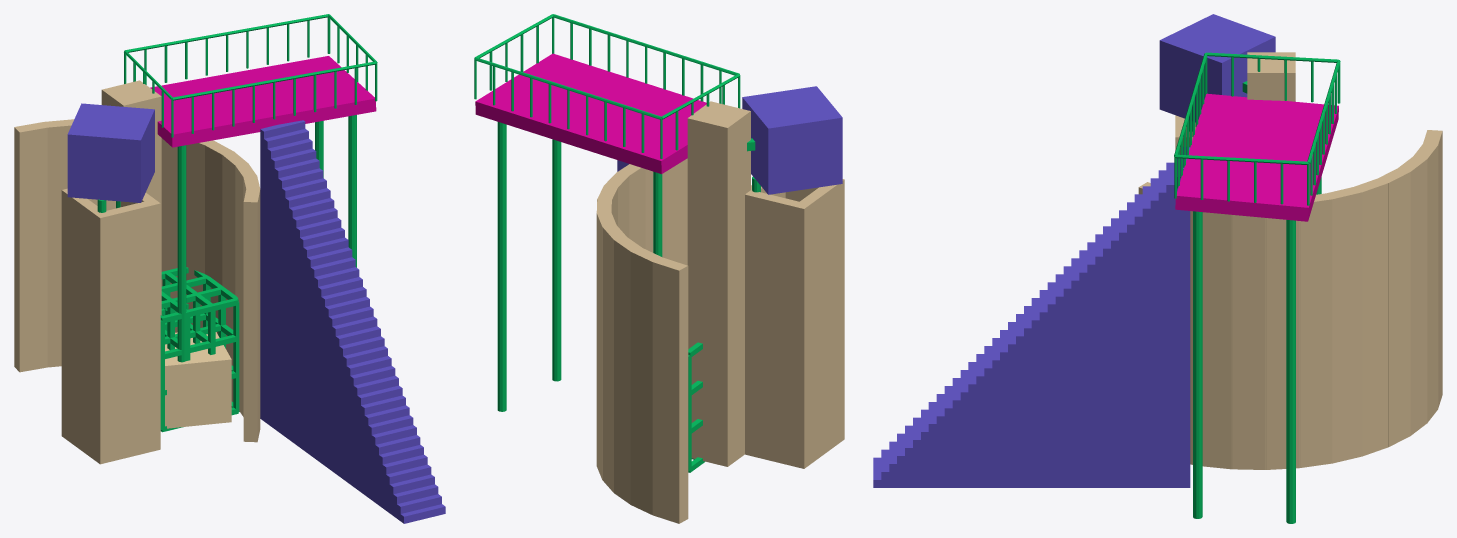
The model's file is folie_tag_048.glb.
The picture shows the model from 3 angles, left to right: view 1: azimuth 30°, elevation 25°; view 2: azimuth 150°, elevation 25°; view 3: azimuth 270°, elevation 25°; orthographic projection. The views are drawn at different scales.
Parts seen in each view (by area): view 1: folie_tag_048_stairs, folie_tag_048_00_curve, folie_tag_048_01_tower, folie_tag_048_02_plate, folie_tag_048_line, folie_tag_048_03_block, folie_tag_048_04_cage, folie_tag_048_05_block, folie_tag_048_core; view 2: folie_tag_048_00_curve, folie_tag_048_01_tower, folie_tag_048_core, folie_tag_048_02_plate, folie_tag_048_line, folie_tag_048_03_block, folie_tag_048_04_cage; view 3: folie_tag_048_00_curve, folie_tag_048_stairs, folie_tag_048_02_plate, folie_tag_048_line, folie_tag_048_03_block, folie_tag_048_core.
Boxes of the visible parts, bbox=[...] form: folie_tag_048_stairs: bbox=[260, 120, 445, 523]; folie_tag_048_00_curve: bbox=[14, 119, 260, 442]; folie_tag_048_01_tower: bbox=[61, 188, 160, 464]; folie_tag_048_02_plate: bbox=[150, 56, 376, 147]; folie_tag_048_line: bbox=[97, 14, 377, 362]; folie_tag_048_03_block: bbox=[67, 103, 154, 202]; folie_tag_048_04_cage: bbox=[160, 267, 239, 432]; folie_tag_048_05_block: bbox=[165, 332, 231, 428]; folie_tag_048_core: bbox=[101, 80, 161, 315]; folie_tag_048_00_curve: bbox=[596, 158, 688, 523]; folie_tag_048_01_tower: bbox=[745, 179, 844, 468]; folie_tag_048_core: bbox=[687, 101, 750, 466]; folie_tag_048_02_plate: bbox=[475, 53, 706, 174]; folie_tag_048_line: bbox=[474, 14, 760, 411]; folie_tag_048_03_block: bbox=[742, 86, 842, 194]; folie_tag_048_04_cage: bbox=[688, 342, 704, 472]; folie_tag_048_00_curve: bbox=[1138, 130, 1442, 469]; folie_tag_048_stairs: bbox=[873, 147, 1190, 487]; folie_tag_048_02_plate: bbox=[1175, 93, 1338, 221]; folie_tag_048_line: bbox=[1174, 52, 1340, 523]; folie_tag_048_03_block: bbox=[1159, 14, 1275, 122]; folie_tag_048_core: bbox=[1247, 52, 1295, 101].
Bounding box in the file's own units: 8.84 × 9.33 × 12.93.
